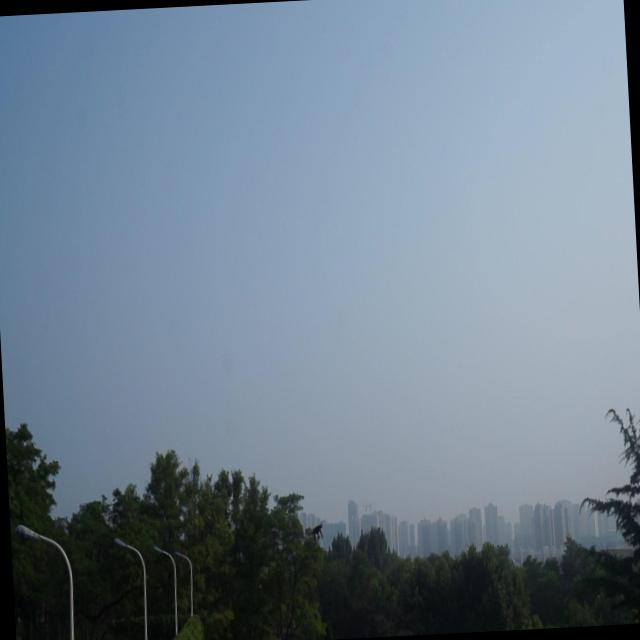drone: (308, 517, 328, 544)
